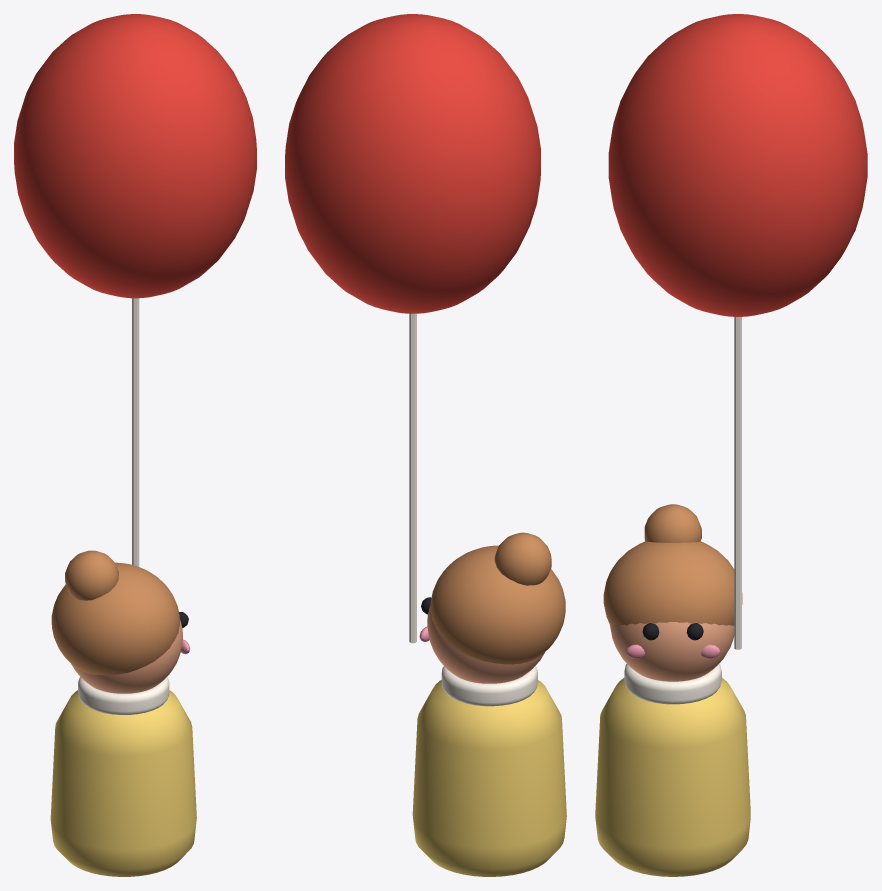
File: peg_d.glb
3 renders of one model, left to right at view 1: azimuth 30°, elevation 25°; view 2: azimuth 150°, elevation 25°; view 3: azimuth 270°, elevation 25°, orthographic. The views are drawn at different scales.
Visible parts, largest first — view 1: peg_d; view 2: peg_d; view 3: peg_d.
Part boxes in pixels (x1,y1,x2,y2): peg_d: (14,14,256,876); peg_d: (285,14,566,876); peg_d: (595,14,867,876).
Bounding box in the file's own units: 0.3987 × 1.44 × 0.4189.
Materials: 1 (1 with a texture image).
